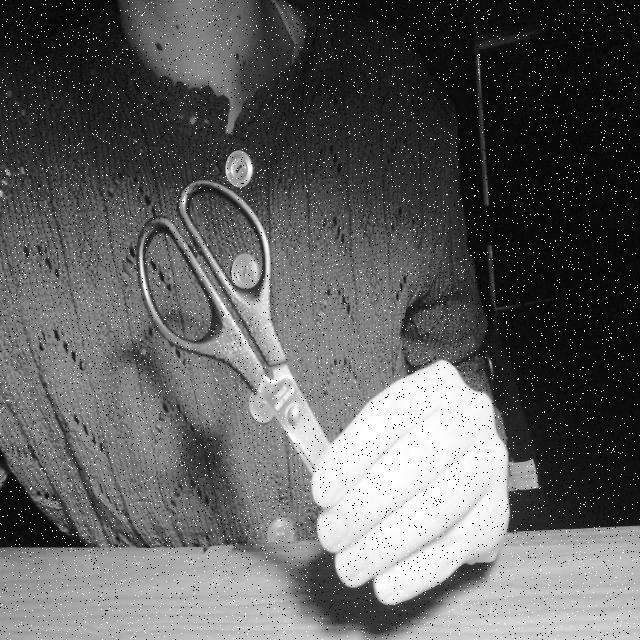scissors: (136, 173, 392, 600)
